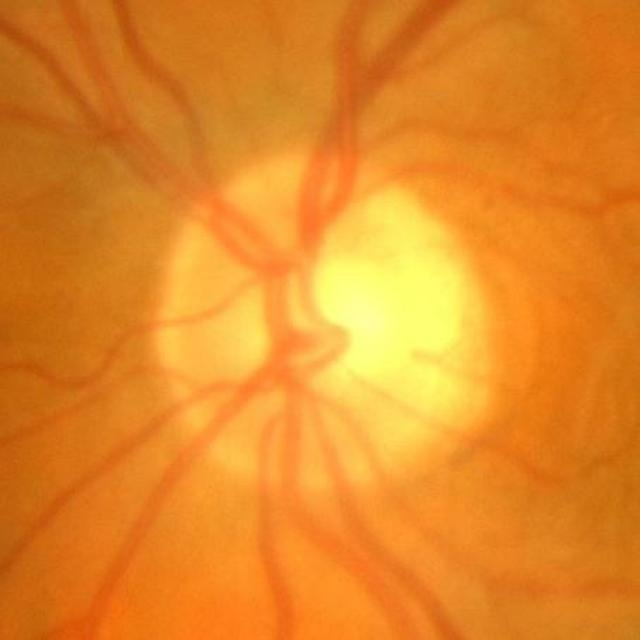OC: (226, 251, 390, 410)
OD: (148, 158, 492, 494)
